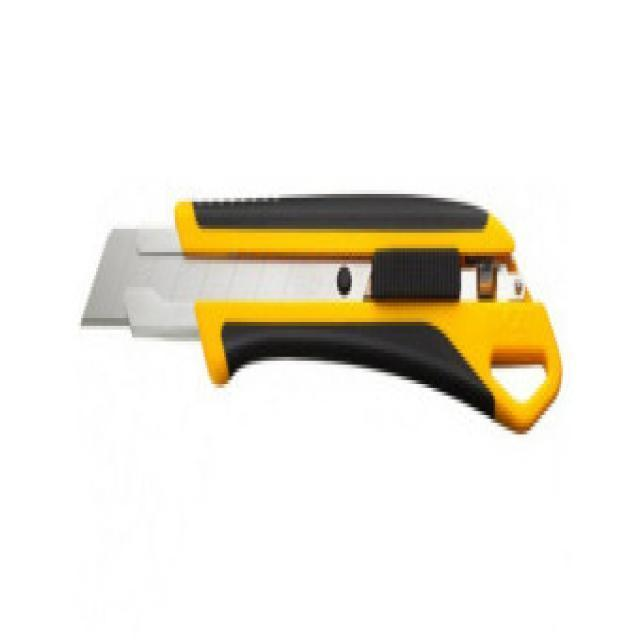cutter: (71, 160, 564, 467)
